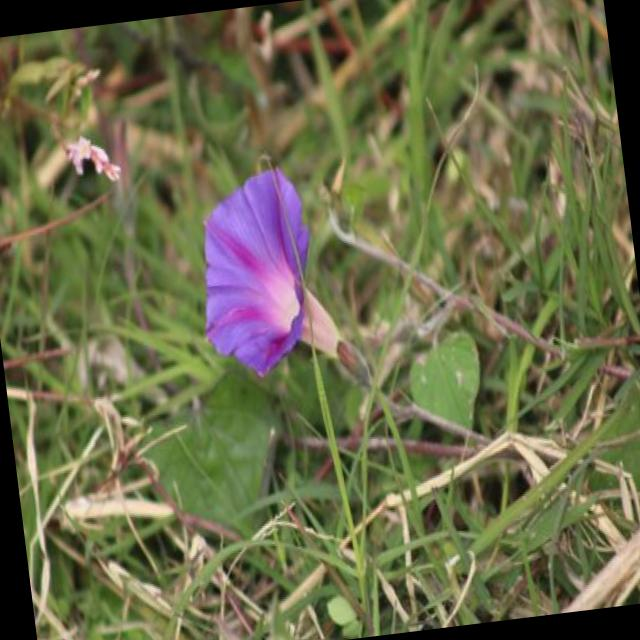ipomoea: (182, 152, 350, 391), (58, 125, 125, 193)
